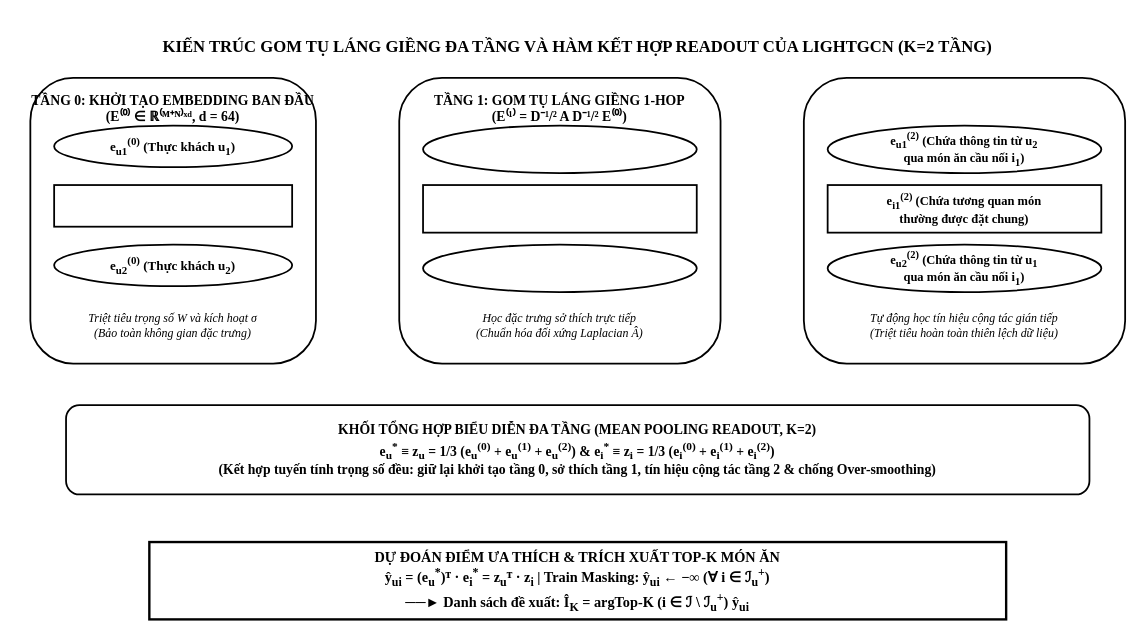
The diagram is 1146 pixels wide and 640 high, and some of its shapes have lost their labels. The box of each missing label's shape, as (x1, y1, x2, y2) in pixels:
e i1 (0) (Món ăn i 1 ): (53, 184, 293, 227)
e i1 (1) = Σ 1/√(d i d u ) e u (0) (Gom thực khách từng gọi món): (422, 184, 697, 233)
e u1 (1) = Σ 1/√(d u d i ) e i (0) (Gom các món đã từng đặt): (422, 124, 697, 174)
e u2 (1) = Σ 1/√(d u d i ) e i (0) (Học sở thích trực tiếp của u 2 ): (422, 243, 697, 293)
TẦNG 2: TÍN HIỆU CỘNG TÁC 2-HOP (E⁽²⁾ = D⁻¹/² A D⁻¹/² E⁽¹⁾): (802, 77, 1126, 364)
